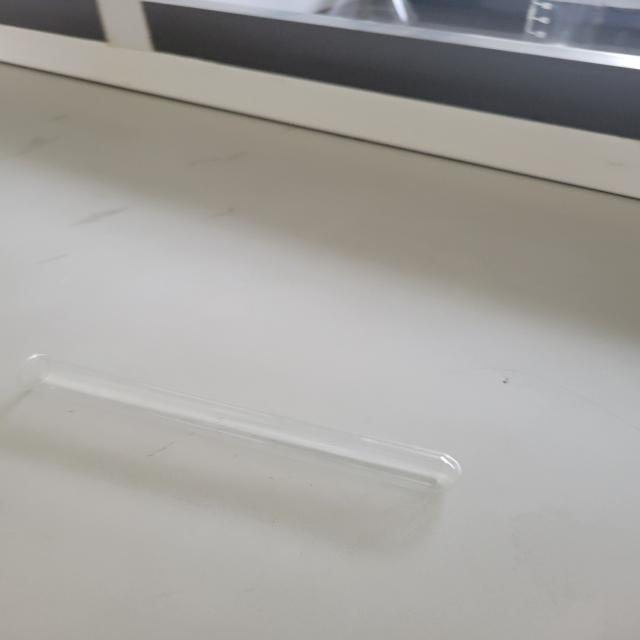Test_Tube: (0, 327, 487, 522)
